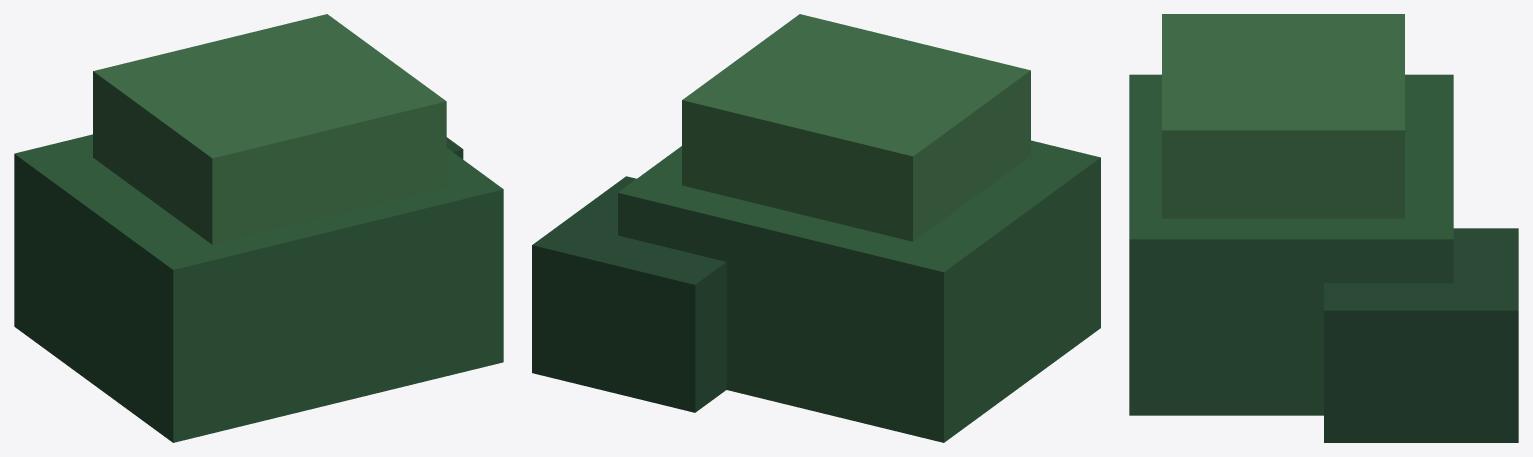
File: bush.glb
The picture shows the model from 3 angles, left to right: view 1: azimuth 30°, elevation 25°; view 2: azimuth 150°, elevation 25°; view 3: azimuth 270°, elevation 25°; orthographic projection. The views are drawn at different scales.
Parts seen in each view (by area): view 1: bush; view 2: bush; view 3: bush.
Part boxes in pixels (left/top/right/bottom): bush: left=14, top=14, right=503, bottom=442; bush: left=532, top=14, right=1100, bottom=442; bush: left=1129, top=14, right=1518, bottom=442.
Size of the model in its own units: 1.4 by 0.9 by 1.2.
Materials: 1 (1 with a texture image).
